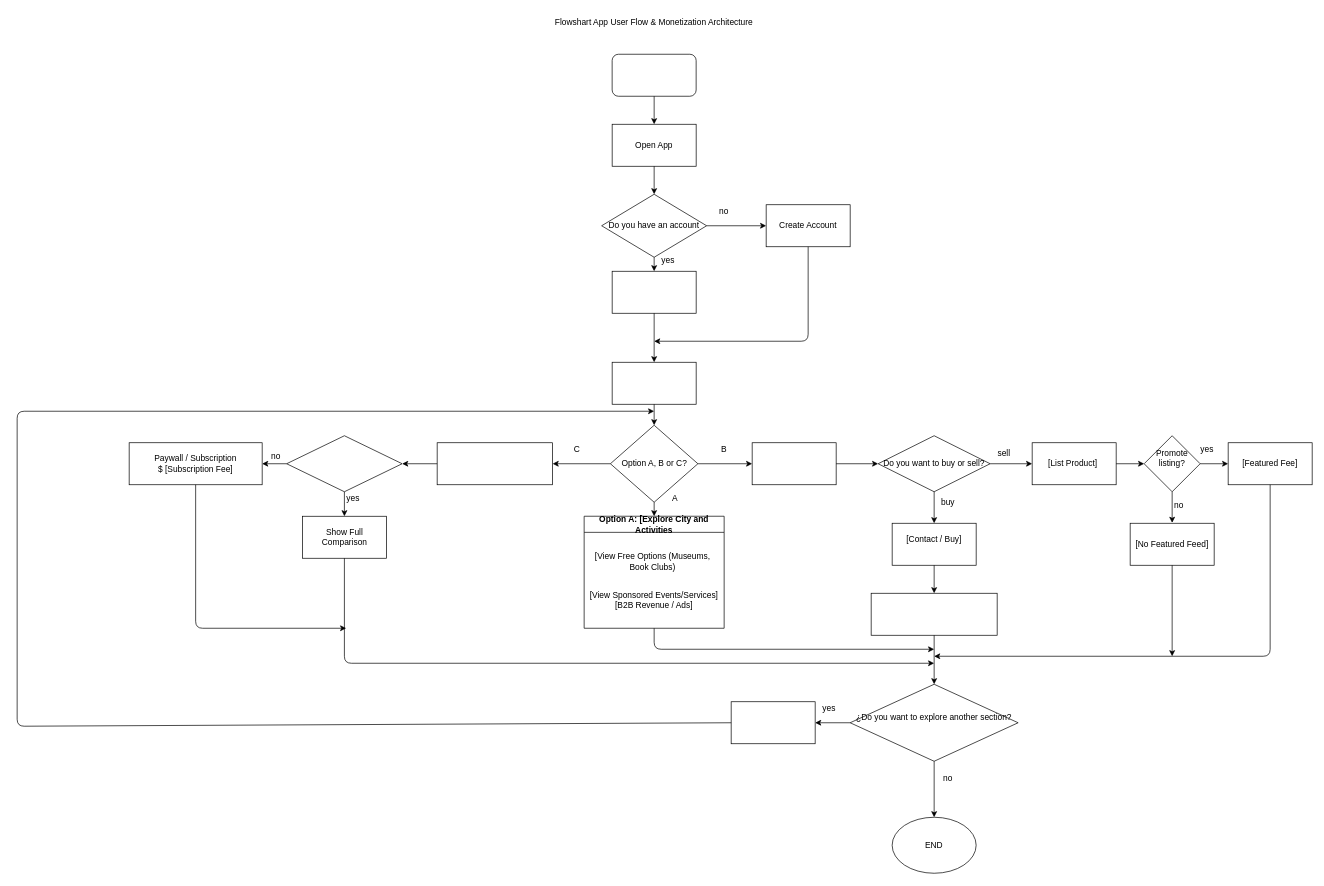
Image size: 1324x886. Some labels were removed from this diagram. Each missing label, with the centre of its shape:
"[Main Menu / Dashboard]" goes at (772,722).
"Has Premium Membership?" goes at (344,463).
"Log in" goes at (653,292).
"Option B: [Student Marketplace & Community]" goes at (793,463).
"Option C: [Pre-Migration Guide (Country Comparison)]" goes at (494,463).
"Payment Gateway $ [Commission %]" goes at (933,614).
"Select [Country/ City /University]" goes at (653,383).
"Start" goes at (653,75).
